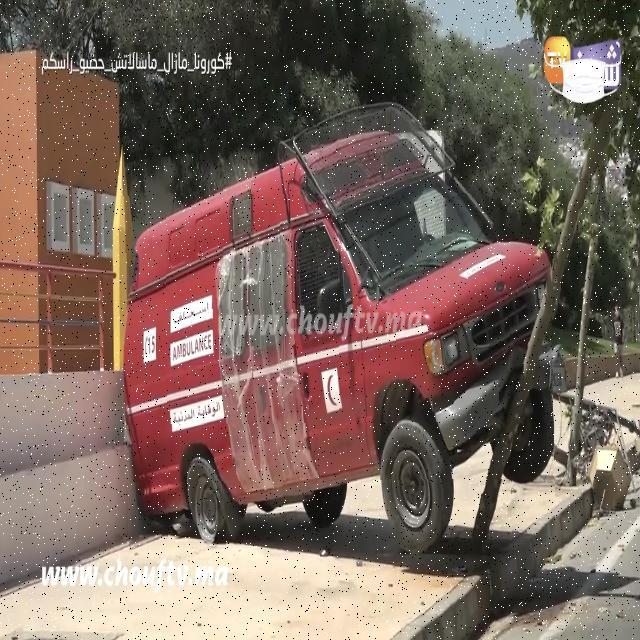ambulance: (123, 126, 554, 548)
